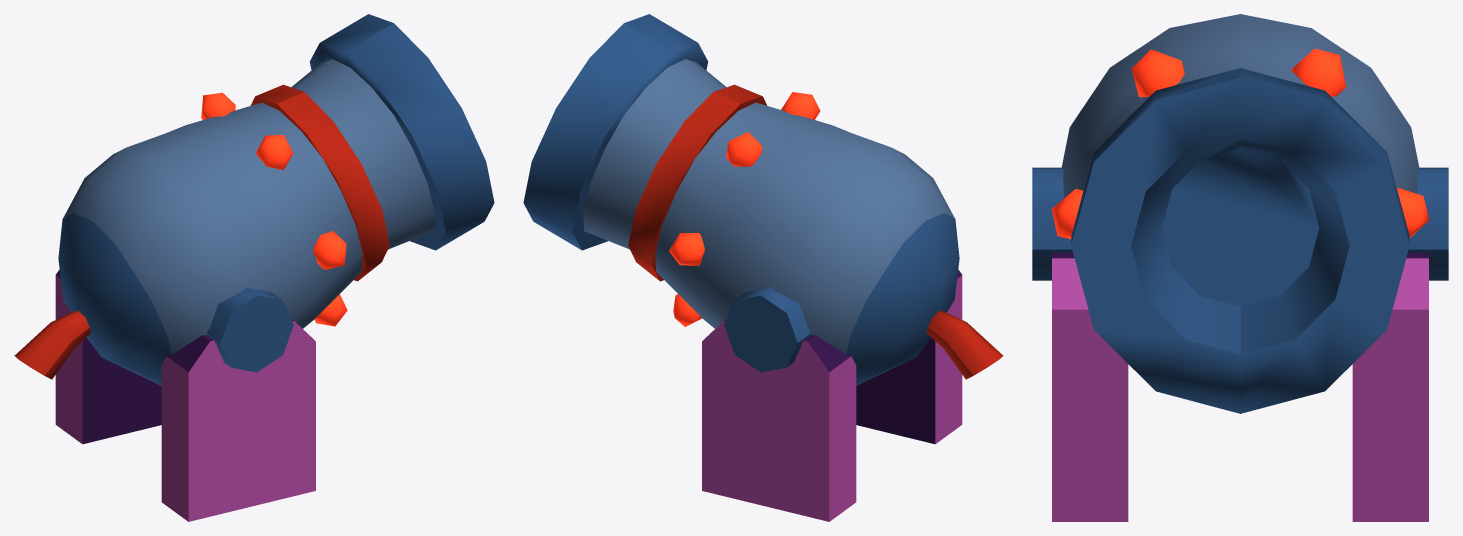
File: pushka_Lv3.fbx
3 renders of one model, left to right at view 1: azimuth 30°, elevation 25°; view 2: azimuth 150°, elevation 25°; view 3: azimuth 270°, elevation 25°, orthographic. The views are drawn at different scales.
Parts seen in each view (by area): view 1: wTube.032, Cube.014, wTube.031, wTube.034, wTube.030, Icosphere.002, wTube.028; view 2: wTube.032, Cube.014, wTube.031, wTube.034, wTube.030, Icosphere.002, wTube.028; view 3: wTube.031, Cube.014, wTube.032, wTube.030, Icosphere.002.
Boxes of the visible parts, left/top/right/bottom form: wTube.032: left=58, top=59, right=434, bottom=385; Cube.014: left=55, top=269, right=315, bottom=521; wTube.031: left=309, top=14, right=494, bottom=250; wTube.034: left=250, top=84, right=389, bottom=281; wTube.030: left=206, top=287, right=293, bottom=372; Icosphere.002: left=201, top=92, right=347, bottom=326; wTube.028: left=14, top=310, right=91, bottom=379; wTube.032: left=583, top=59, right=959, bottom=385; Cube.014: left=702, top=269, right=962, bottom=521; wTube.031: left=523, top=14, right=708, bottom=250; wTube.034: left=628, top=84, right=767, bottom=281; wTube.030: left=724, top=287, right=811, bottom=372; Icosphere.002: left=669, top=92, right=820, bottom=326; wTube.028: left=926, top=310, right=1003, bottom=379; wTube.031: left=1071, top=68, right=1409, bottom=413; Cube.014: left=1052, top=252, right=1428, bottom=521; wTube.032: left=1061, top=14, right=1419, bottom=197; wTube.030: left=1032, top=167, right=1448, bottom=280; Icosphere.002: left=1051, top=48, right=1429, bottom=239.
Size of the model in its own units: 589 by 489 by 339.
